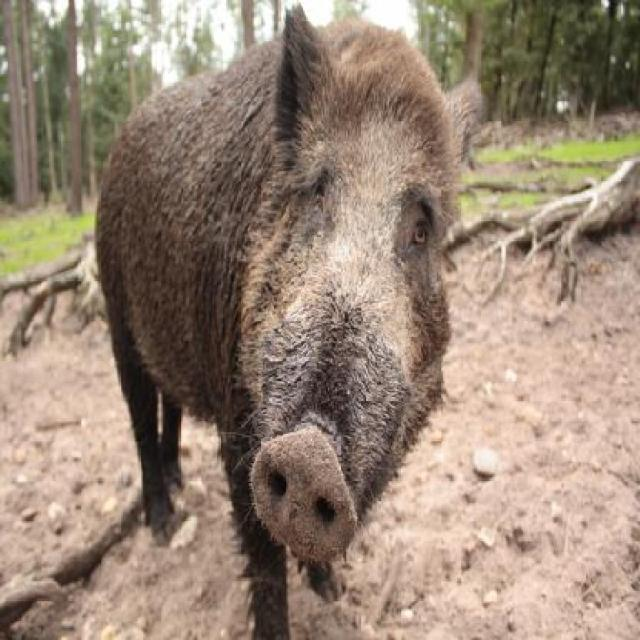wildboar: (89, 0, 485, 640)
